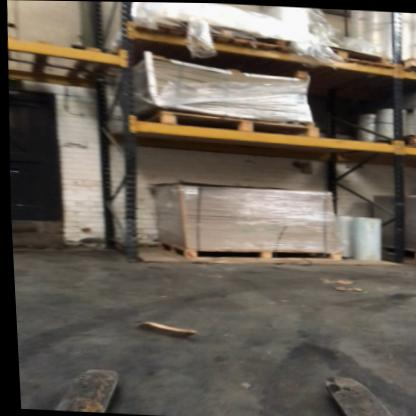vertical_damage: (119, 206, 144, 236)
